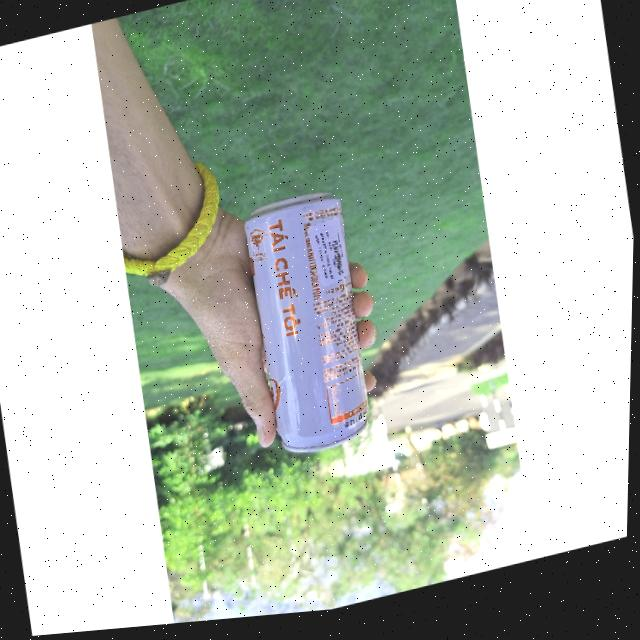Coca Cola Plus: (230, 183, 388, 473)
